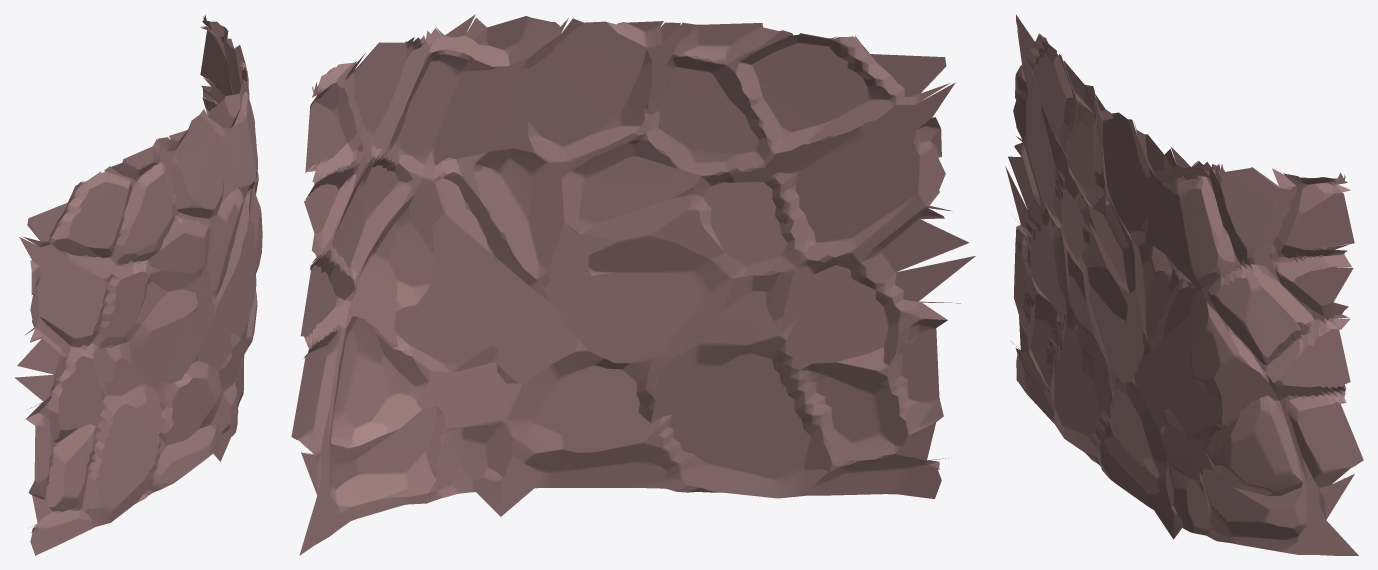
The model's file is cliff_area_2.fbx_Cliff_Area_2_026LODs.fbx.
3 renders of one model, left to right at view 1: azimuth 30°, elevation 25°; view 2: azimuth 150°, elevation 25°; view 3: azimuth 270°, elevation 25°, orthographic. The views are drawn at different scales.
Parts seen in each view (by area): view 1: Cliff Area 2.026_LOD0; view 2: Cliff Area 2.026_LOD0; view 3: Cliff Area 2.026_LOD0.
Part boxes in pixels (x1,y1,x2,y2): Cliff Area 2.026_LOD0: (15,15,262,555); Cliff Area 2.026_LOD0: (291,14,975,555); Cliff Area 2.026_LOD0: (1005,14,1363,555).
Size of what is drawn, in the model's own units: 3995 by 4012 by 3226.
